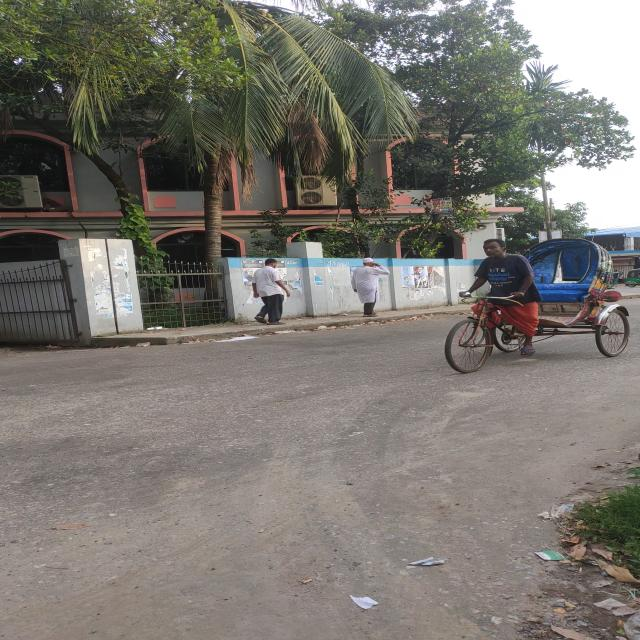rickshaw: (424, 238, 625, 375)
